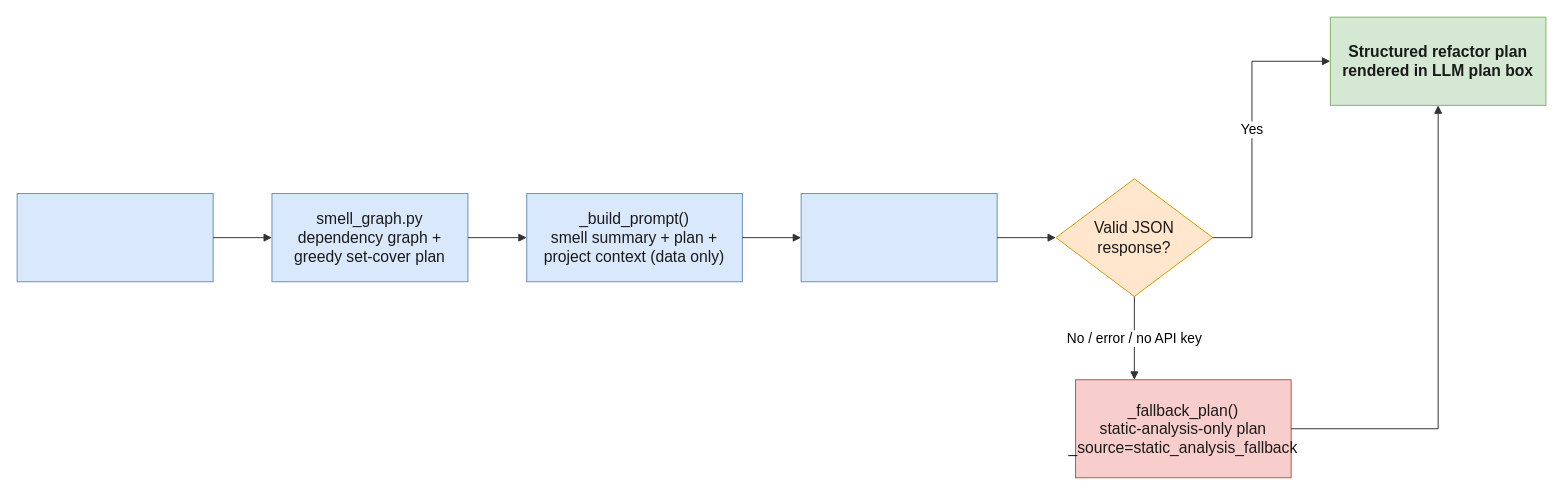
Some shapes in this 1563 by 495 pixel diagram are drawn without their labels. Each missing label, with the centre of its shape:
"Groq API llama-3.3-70b-versatile temperature=0.20" goes at [898,237].
"smell_detector.py function/module/architecture smells" goes at [114,237].
